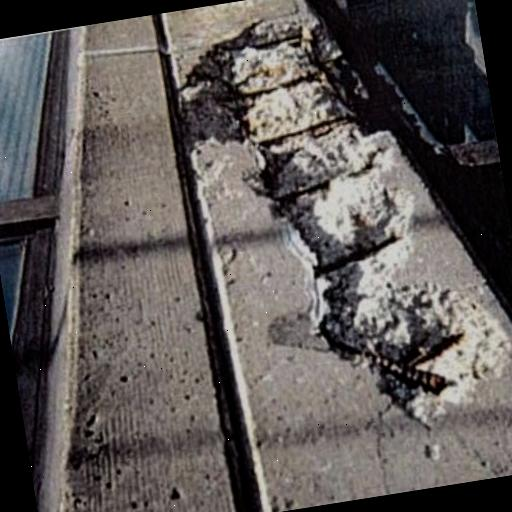spalling: (171, 8, 510, 419)
